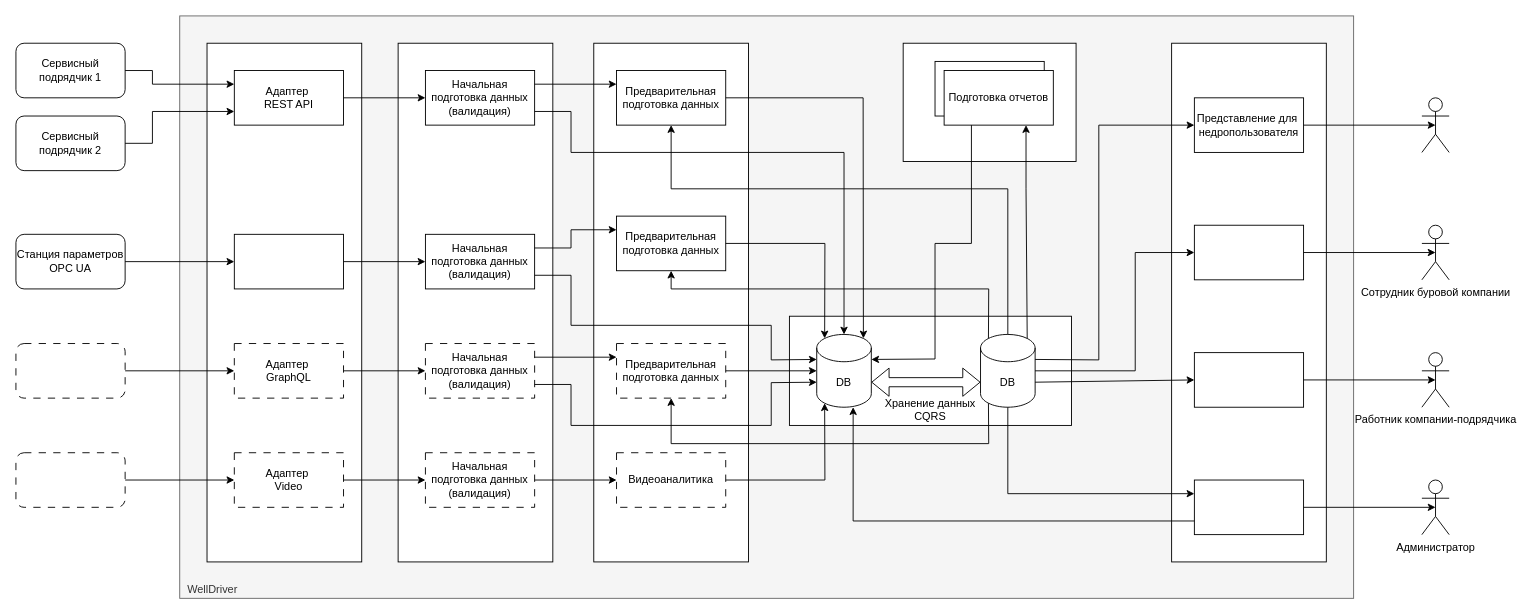
Image size: 1532x614. Some labels were removed from this diagram. Here are the shapes that lost their labels. From the top down, the box of each, then its label:
(902, 42, 1076, 162): Домен обработки пакетных данных
(1421, 97, 1449, 152): Недропользователь
(233, 233, 344, 289): Адаптер OPCUA
(1193, 224, 1304, 280): Представление для сотрудников буровой компании
(206, 42, 362, 562): Домен примников данных
(397, 42, 553, 562): Домен валидаторов
(593, 42, 748, 562): Домен предварительной подготовки данных и расчетов
(1171, 42, 1326, 562): Домен представления данных
(15, 343, 125, 398): Сервисный подрядчик 3
(1193, 352, 1304, 407): Представление для работников сервисных организаций
(15, 452, 125, 507): Видеокамера
(1193, 479, 1304, 535): Администратор системы
